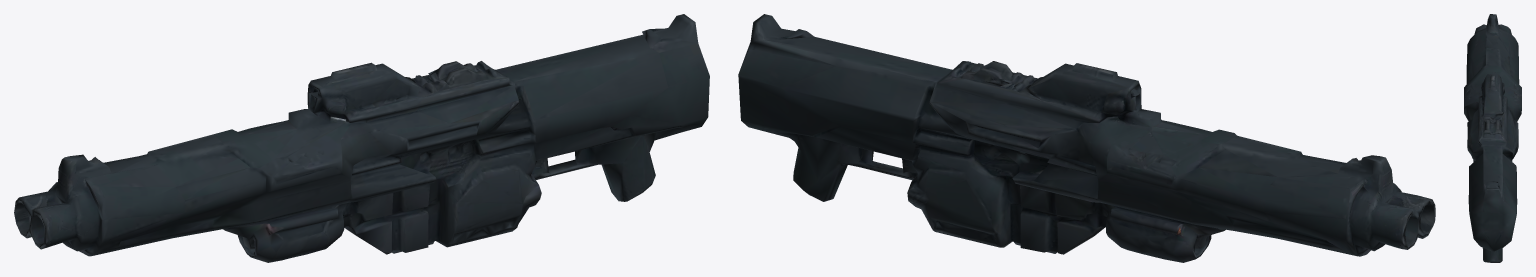
The model's file is player_shotgun_scifi.glb.
3 renders of one model, left to right at view 1: azimuth 30°, elevation 25°; view 2: azimuth 150°, elevation 25°; view 3: azimuth 270°, elevation 25°, orthographic. The views are drawn at different scales.
Size of the model in its own units: 1.9 by 0.5359 by 0.2573.
Materials: 1 (1 with a texture image).
